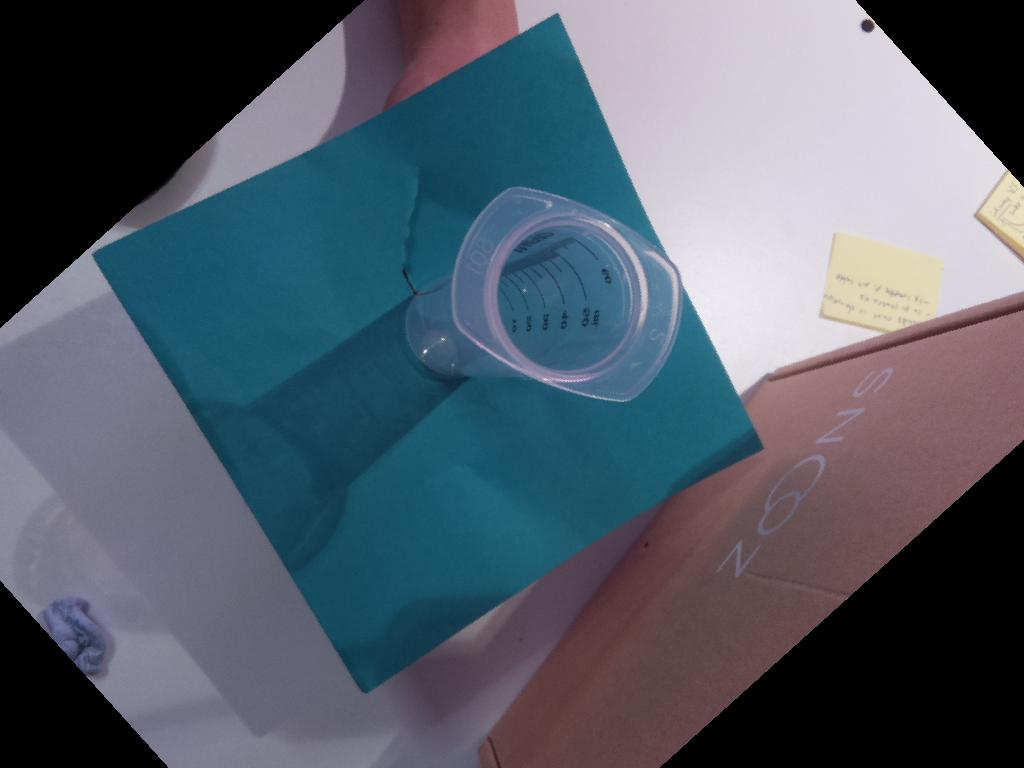clean: (451, 184, 684, 401)
